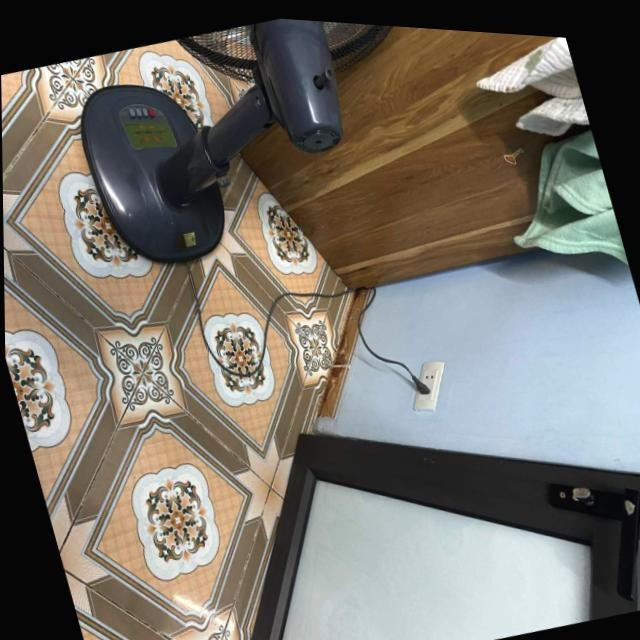outlet: (401, 354, 456, 417)
